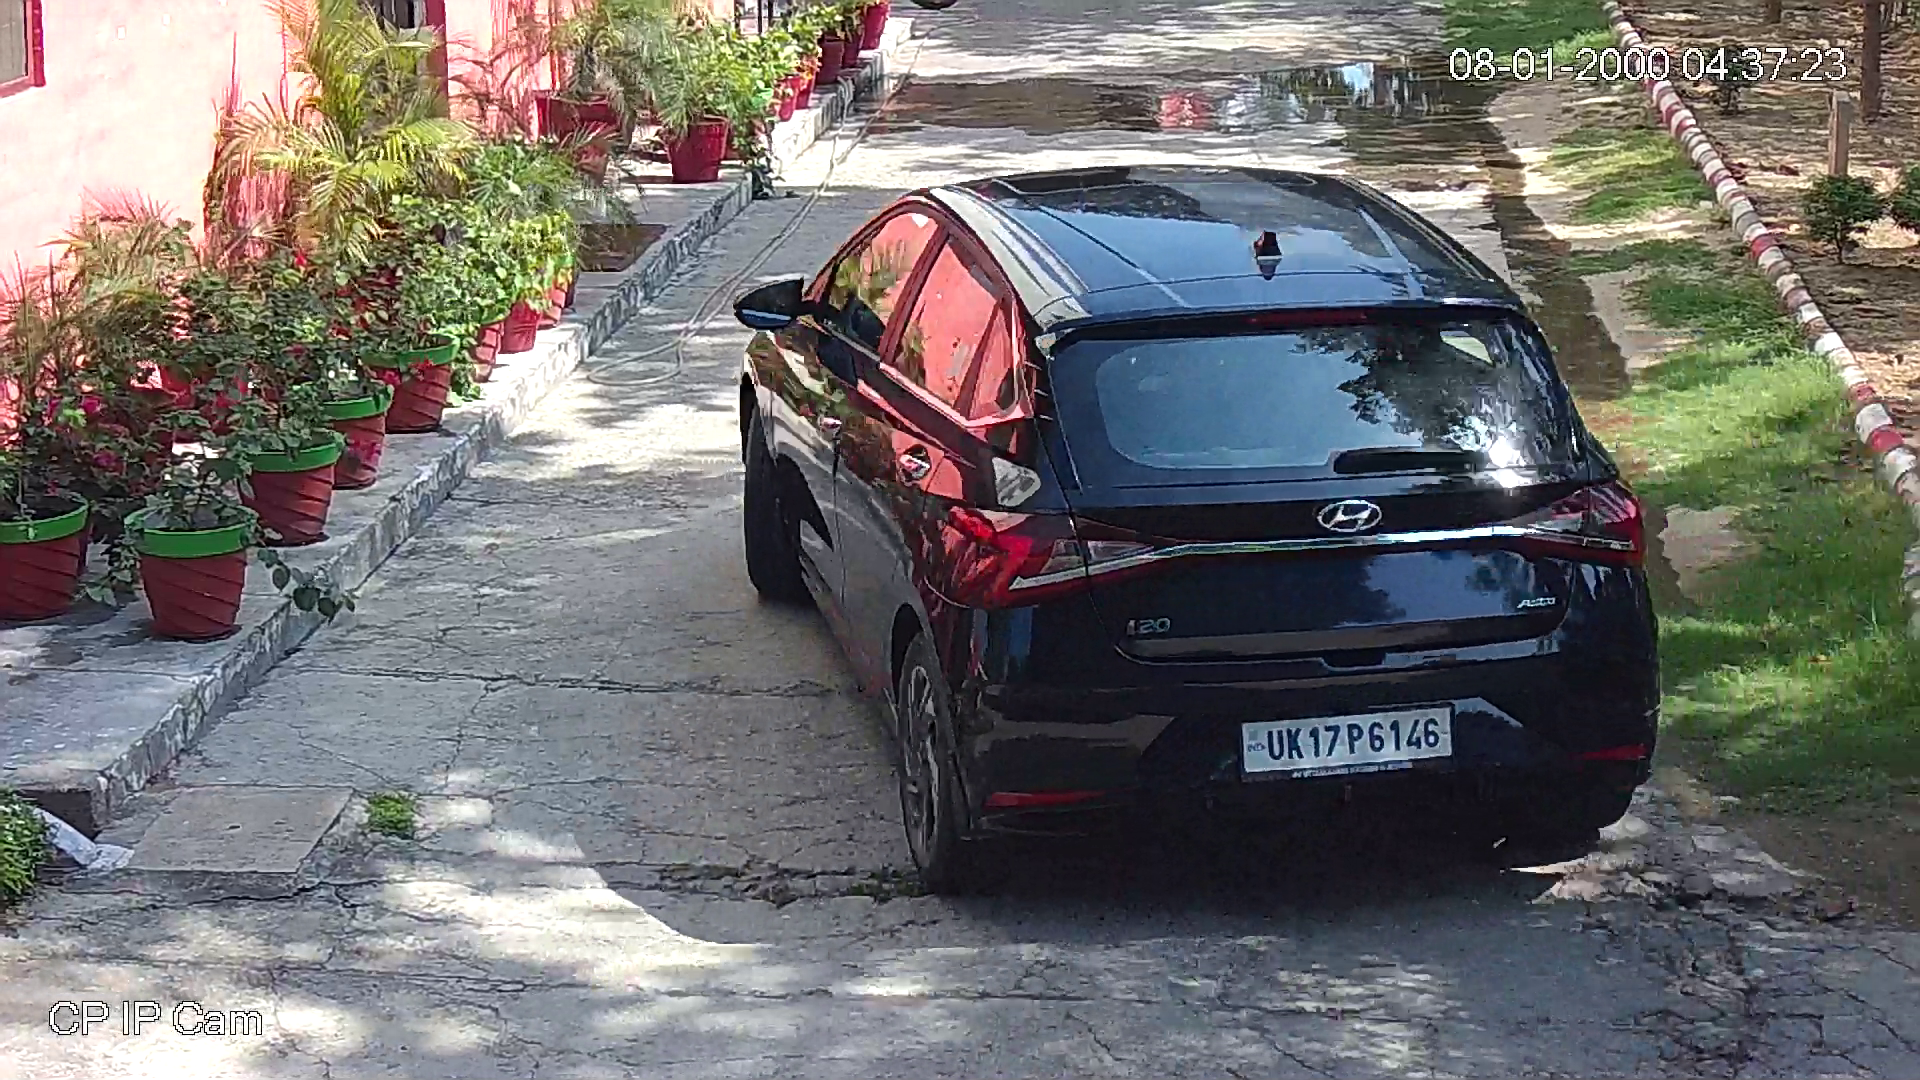plate: (1236, 701, 1460, 784)
